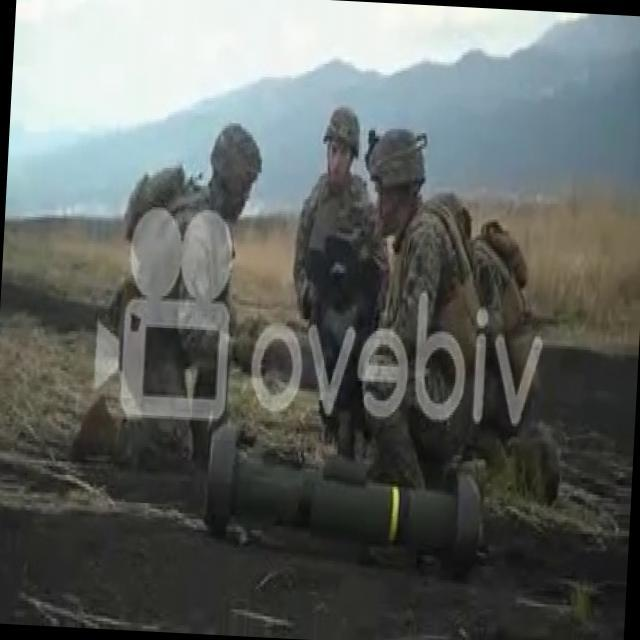rocket: (207, 425, 488, 554)
